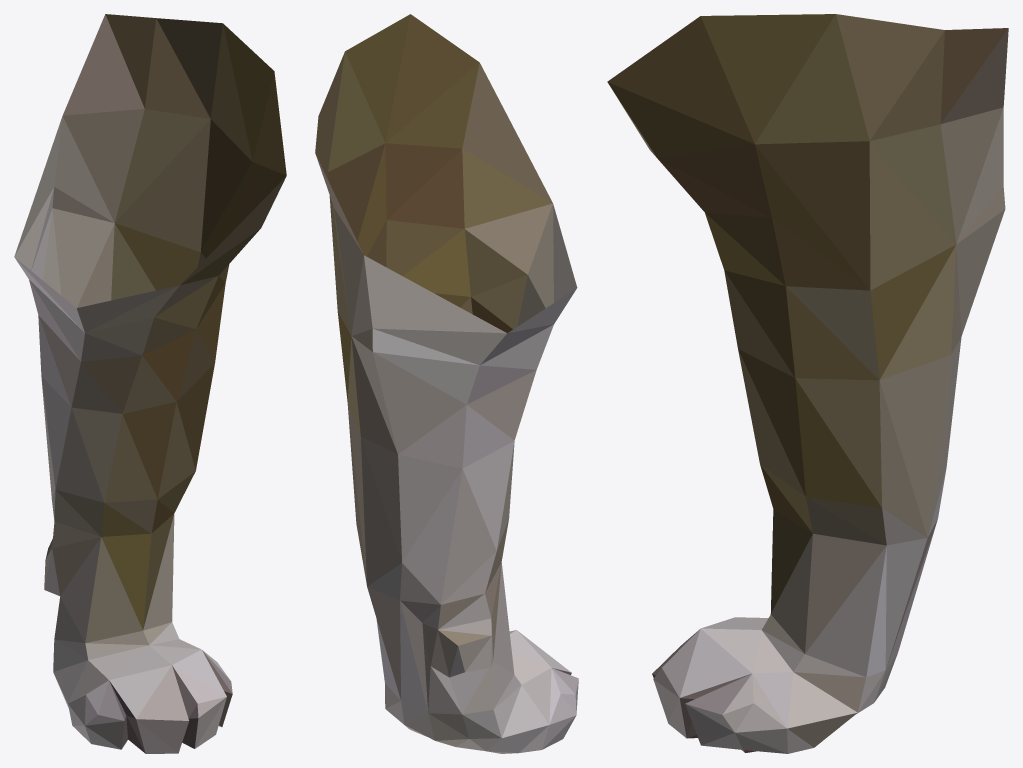
Rendered from PataDelDer.obj.
3 renders of one model, left to right at view 1: azimuth 30°, elevation 25°; view 2: azimuth 150°, elevation 25°; view 3: azimuth 270°, elevation 25°, orthographic. The views are drawn at different scales.
Visible parts, largest first — view 1: PataDelDer1:cat_01_color05 group1; view 2: PataDelDer1:cat_01_color05 group1; view 3: PataDelDer1:cat_01_color05 group1.
Boxes of the visible parts, <box> form: PataDelDer1:cat_01_color05 group1: <box>14,14,286,753</box>; PataDelDer1:cat_01_color05 group1: <box>315,14,578,753</box>; PataDelDer1:cat_01_color05 group1: <box>607,14,1008,753</box>.
Size of the model in its own units: 0.1381 by 0.4594 by 0.2172.
Materials: 1 (1 with a texture image).
